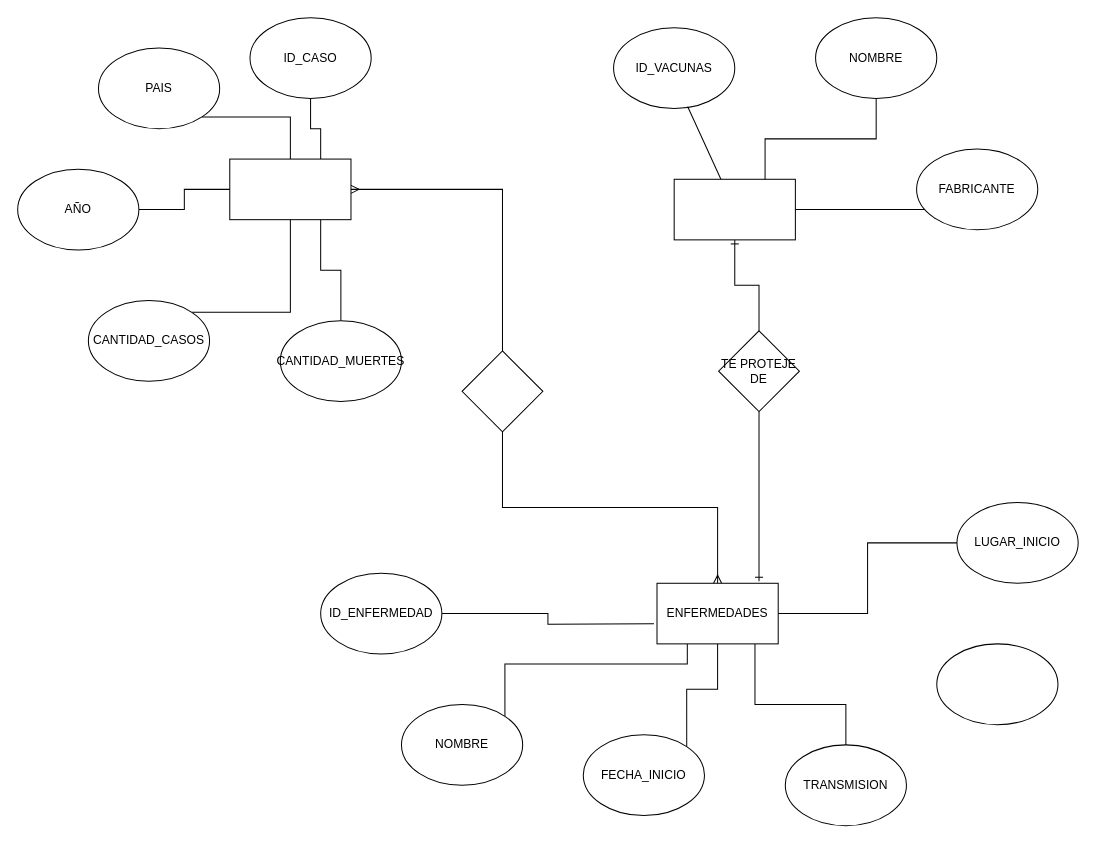
This 1096x843 diagram has some shape labels left out. Here are the shapes that lost their labels. From the top down, the centre of each, then its label:
point (290, 189): CASOS_PAIS
point (734, 209): VACUNAS
point (502, 391): PROVOCAN
point (997, 684): SINTOMAS
